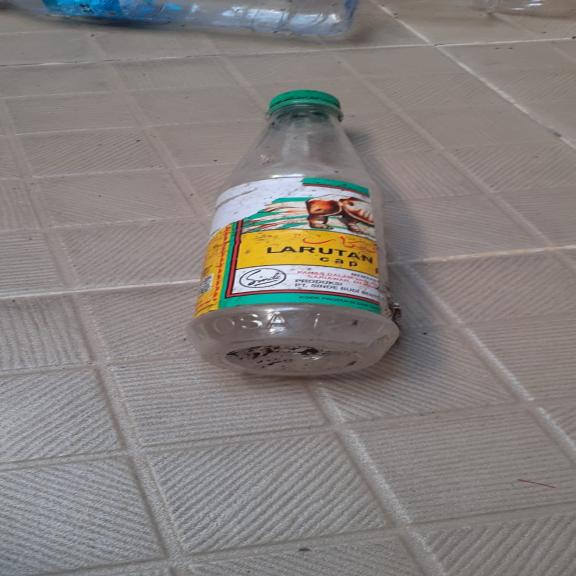Plastik: (180, 82, 410, 382), (0, 0, 379, 45)
